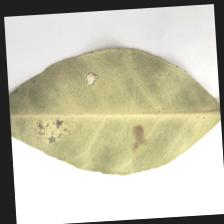black spot: (18, 53, 174, 163)
